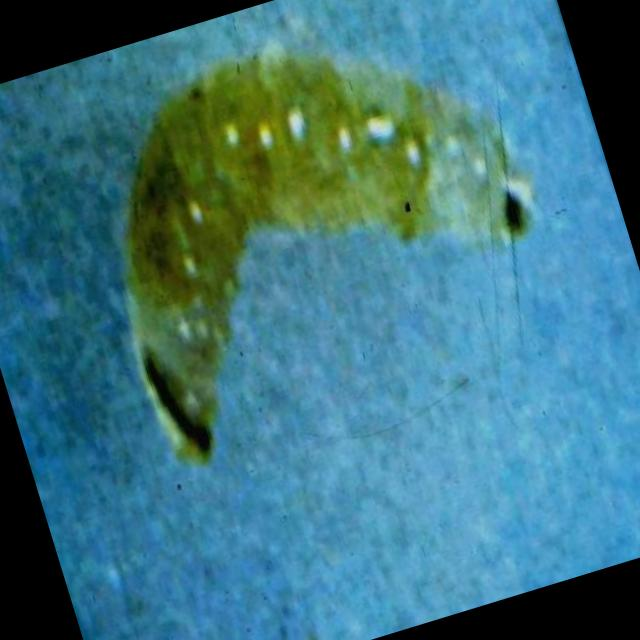whorl-maggot: (106, 37, 541, 473)
